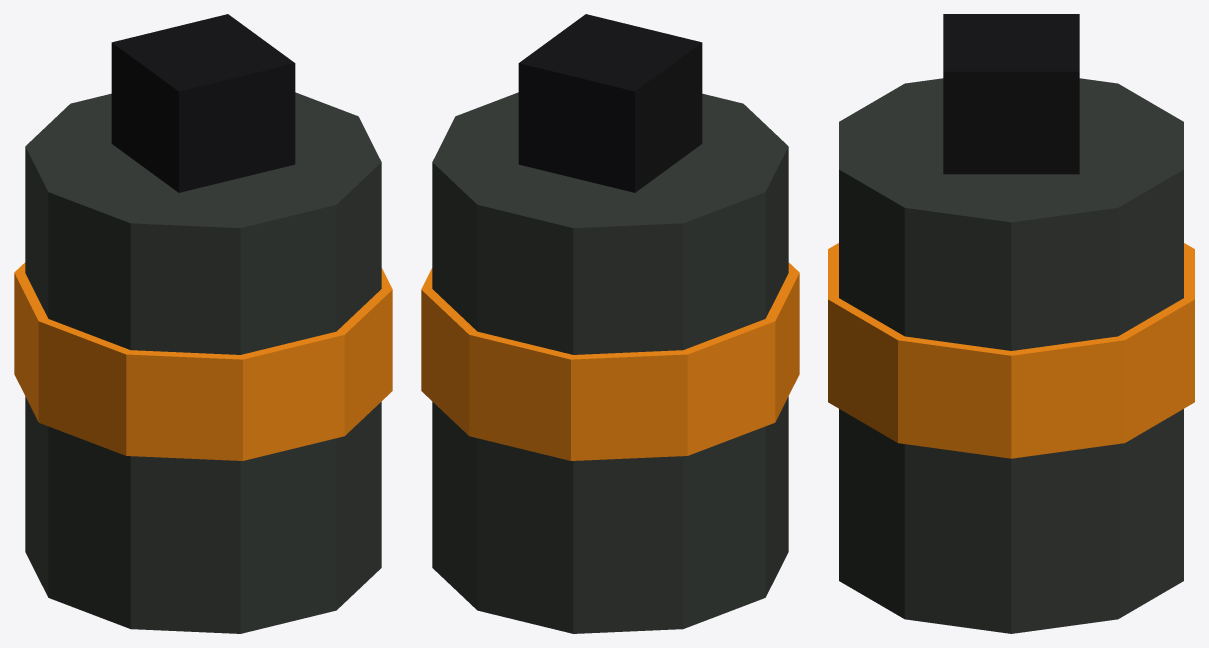
The model's file is item_F1_FragGrenade.obj.
The picture shows the model from 3 angles, left to right: view 1: azimuth 30°, elevation 25°; view 2: azimuth 150°, elevation 25°; view 3: azimuth 270°, elevation 25°; orthographic projection.
Visible parts, largest first — view 1: Item_F1_FragGrenade, Item_F1_FragGrenade_Band, Item_F1_FragGrenade_Fuse; view 2: Item_F1_FragGrenade, Item_F1_FragGrenade_Band, Item_F1_FragGrenade_Fuse; view 3: Item_F1_FragGrenade, Item_F1_FragGrenade_Band, Item_F1_FragGrenade_Fuse.
Boxes of the visible parts, x1,y1,x2,y2 form: Item_F1_FragGrenade: (25, 92, 381, 633); Item_F1_FragGrenade_Band: (14, 262, 392, 460); Item_F1_FragGrenade_Fuse: (111, 14, 295, 192); Item_F1_FragGrenade: (432, 92, 788, 633); Item_F1_FragGrenade_Band: (421, 262, 799, 460); Item_F1_FragGrenade_Fuse: (518, 14, 702, 192); Item_F1_FragGrenade: (839, 78, 1183, 633); Item_F1_FragGrenade_Band: (828, 243, 1194, 458); Item_F1_FragGrenade_Fuse: (943, 14, 1079, 174).
Size of the model in its own units: 0.068 by 0.1 by 0.0646.
